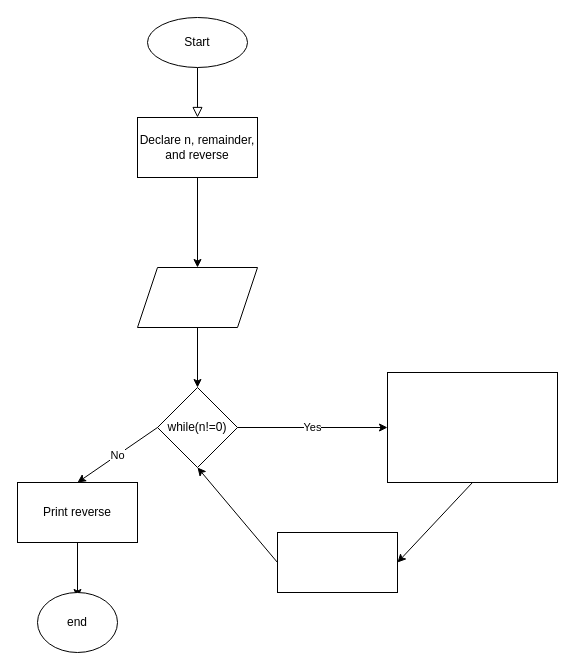
Image size: 575x670. Some labels were removed from this diagram. The centre of each missing label's shape, as x and y in pixels:
"n = n/10" goes at point 337,562.
"read n" goes at point 197,297.
"remainder = n % 10 reverse = reverse * 10 + remainder" goes at point 472,427.
